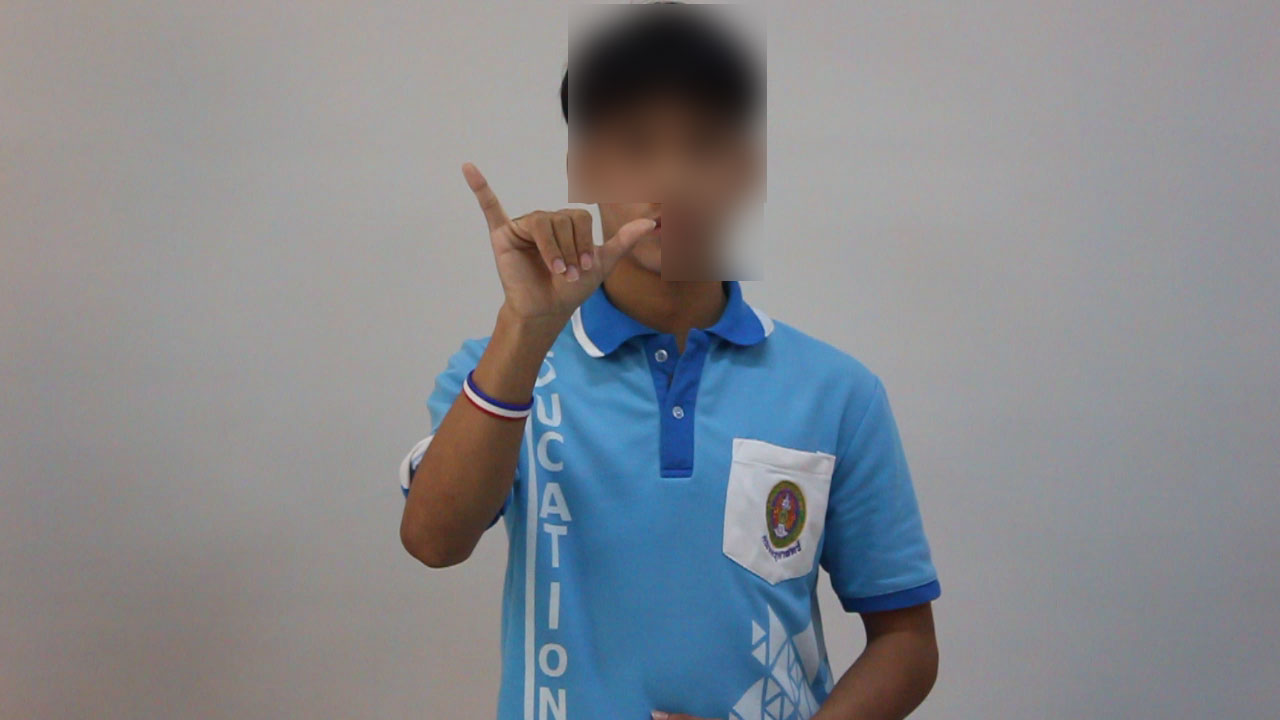yor: (443, 153, 672, 342)
